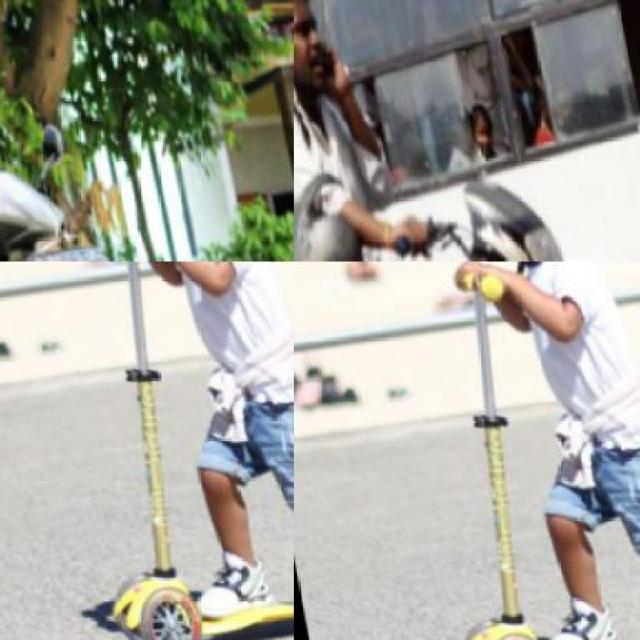Without Helmet: (294, 0, 332, 80)
